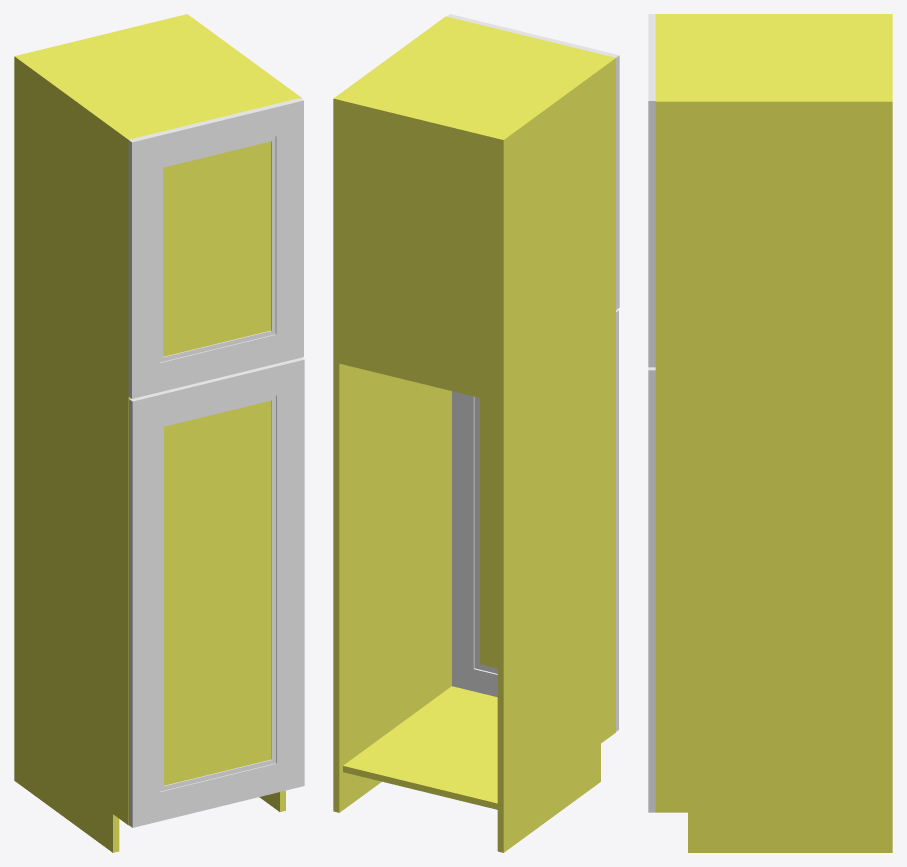
The picture shows the model from 3 angles, left to right: view 1: azimuth 30°, elevation 25°; view 2: azimuth 150°, elevation 25°; view 3: azimuth 270°, elevation 25°; orthographic projection. The views are drawn at different scales.
Visible parts, largest first — view 1: mesh7_mesh7-geometry, mesh17_mesh17-geometry, mesh26_mesh26-geometry, mesh3_mesh3-geometry, mesh15_mesh15-geometry, mesh9_mesh9-geometry, mesh22_mesh22-geometry, mesh24_mesh24-geometry, mesh18_mesh18-geometry, mesh11_mesh11-geometry, mesh20_mesh20-geometry, mesh13_mesh13-geometry (+1 smaller); view 2: mesh7_mesh7-geometry, mesh1_mesh1-geometry, mesh3_mesh3-geometry, mesh9_mesh9-geometry, mesh17_mesh17-geometry, mesh15_mesh15-geometry, mesh22_mesh22-geometry, mesh13_mesh13-geometry; view 3: mesh7_mesh7-geometry, mesh3_mesh3-geometry, mesh9_mesh9-geometry, mesh24_mesh24-geometry, mesh1_mesh1-geometry, mesh18_mesh18-geometry.
Boxes of the visible parts, <box> form: mesh7_mesh7-geometry: <box>14,14,301,852</box>; mesh17_mesh17-geometry: <box>164,400,271,785</box>; mesh26_mesh26-geometry: <box>163,141,270,356</box>; mesh3_mesh3-geometry: <box>24,18,294,138</box>; mesh15_mesh15-geometry: <box>129,393,163,827</box>; mesh9_mesh9-geometry: <box>271,357,304,792</box>; mesh22_mesh22-geometry: <box>128,133,163,398</box>; mesh24_mesh24-geometry: <box>271,98,303,363</box>; mesh18_mesh18-geometry: <box>155,104,277,167</box>; mesh11_mesh11-geometry: <box>155,364,278,426</box>; mesh20_mesh20-geometry: <box>160,330,276,391</box>; mesh13_mesh13-geometry: <box>160,759,276,820</box>; mesh7_mesh7-geometry: <box>333,16,615,852</box>; mesh1_mesh1-geometry: <box>339,97,500,401</box>; mesh3_mesh3-geometry: <box>343,18,609,809</box>; mesh9_mesh9-geometry: <box>452,391,479,691</box>; mesh17_mesh17-geometry: <box>480,398,497,668</box>; mesh15_mesh15-geometry: <box>616,310,618,731</box>; mesh22_mesh22-geometry: <box>589,48,619,309</box>; mesh13_mesh13-geometry: <box>473,664,497,697</box>; mesh7_mesh7-geometry: <box>655,14,892,852</box>; mesh3_mesh3-geometry: <box>655,17,885,98</box>; mesh9_mesh9-geometry: <box>648,367,655,812</box>; mesh24_mesh24-geometry: <box>648,87,655,367</box>; mesh1_mesh1-geometry: <box>885,17,892,98</box>; mesh18_mesh18-geometry: <box>648,26,655,88</box>.
Bounding box in the file's own units: 0.2332 × 0.9328 × 0.2748.
